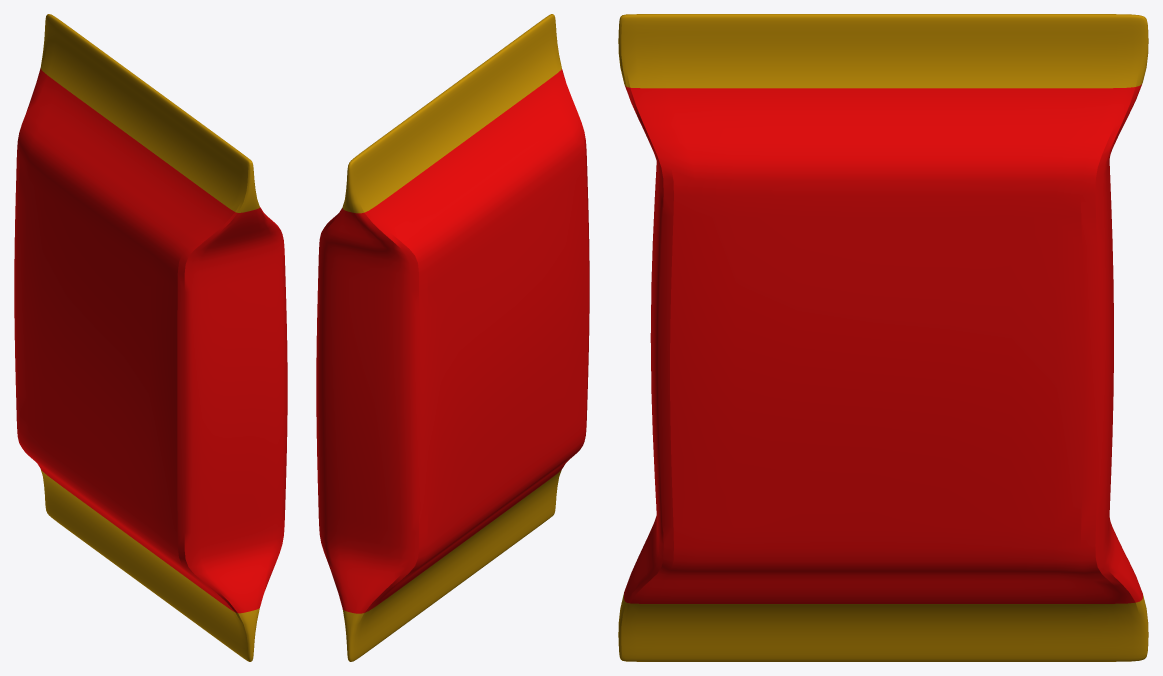
File: alfajor.fbx
3 views of the same model, side by side, from view 1: azimuth 30°, elevation 25°; view 2: azimuth 150°, elevation 25°; view 3: azimuth 270°, elevation 25° (orthographic). The views are drawn at different scales.
Parts seen in each view (by area): view 1: Cube; view 2: Cube; view 3: Cube.
Boxes of the visible parts, x1=… form: Cube: x1=14, y1=14, x2=287, y2=661; Cube: x1=316, y1=14, x2=589, y2=661; Cube: x1=618, y1=14, x2=1148, y2=661.
Bounding box in the file's own units: 1.61 × 6.59 × 4.9.
